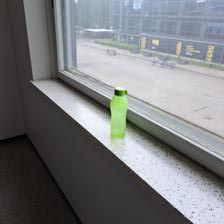bottle: (107, 84, 130, 138)
